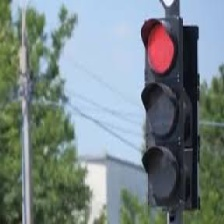semaforo: (140, 16, 185, 207)
